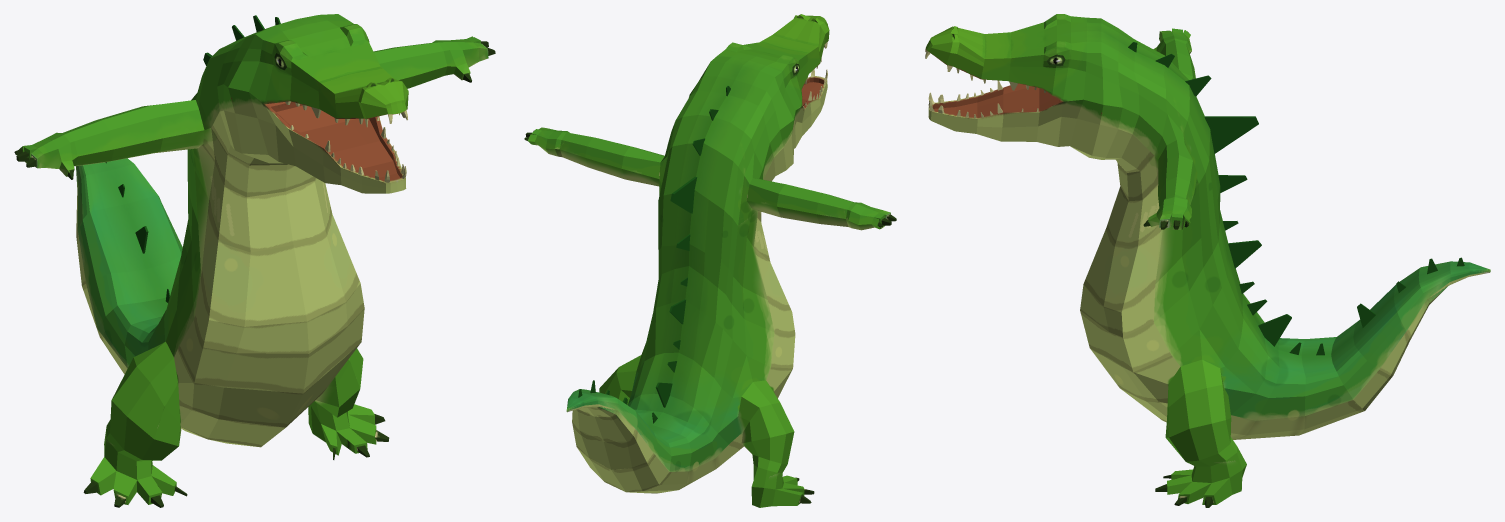
File: crocodile_final.fbx
The picture shows the model from 3 angles, left to right: view 1: azimuth 30°, elevation 25°; view 2: azimuth 150°, elevation 25°; view 3: azimuth 270°, elevation 25°; orthographic projection. The views are drawn at different scales.
Visible parts, largest first — view 1: crocodile, crocodile_thorn; view 2: crocodile, crocodile_thorn; view 3: crocodile, crocodile_thorn.
Part boxes in pixels (x1,y1,x2,y2): crocodile: (14, 14, 495, 507); crocodile_thorn: (105, 15, 280, 302); crocodile: (524, 14, 896, 507); crocodile_thorn: (578, 86, 730, 423); crocodile: (925, 14, 1490, 507); crocodile_thorn: (1128, 42, 1464, 355).
Size of the model in its own units: 277 by 276 by 337.
2 materials, 2 textured.
